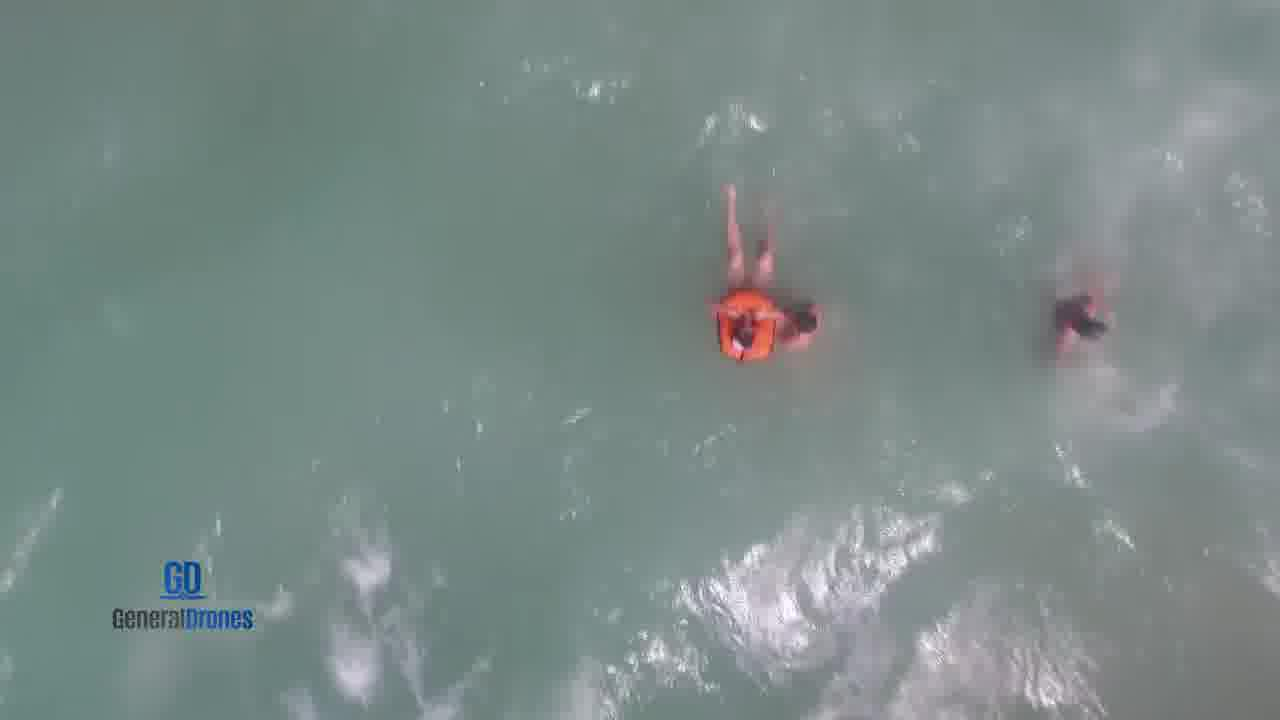swimmer: (1062, 292, 1116, 351), (780, 297, 827, 341), (729, 316, 758, 344)
